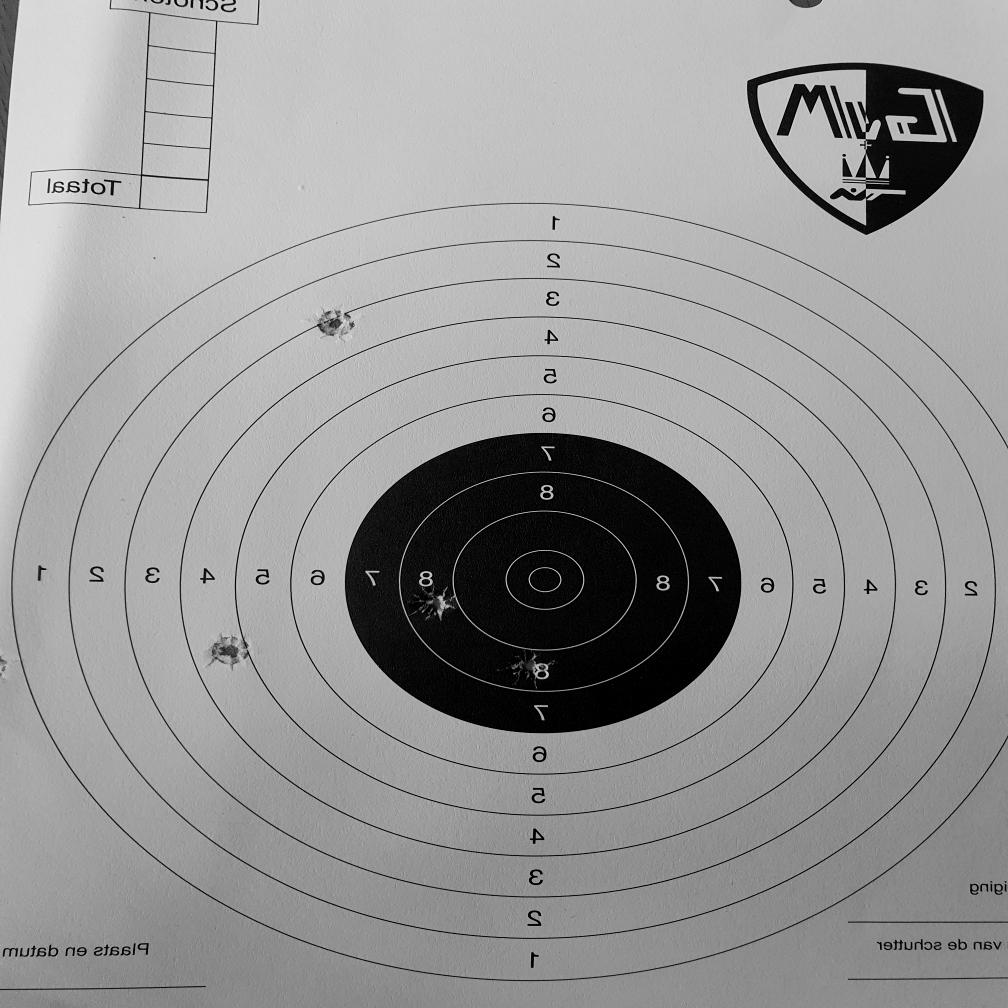0: (0, 654, 10, 680)
3: (315, 306, 358, 341)
5: (203, 632, 255, 668)
8: (500, 653, 554, 688), (408, 586, 460, 622)
Target: (10, 202, 1008, 984)
black_contour: (342, 433, 742, 734)
